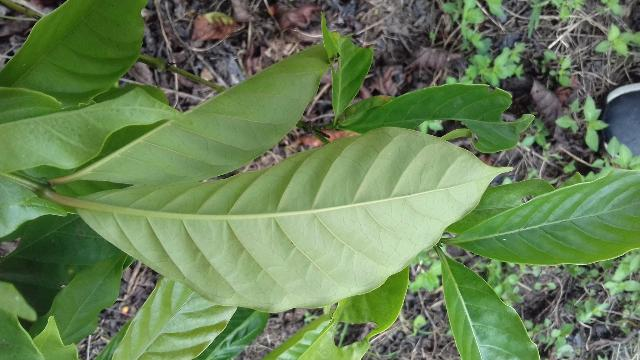healthy: (48, 125, 525, 314)
